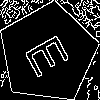E: (23, 28, 79, 79)
